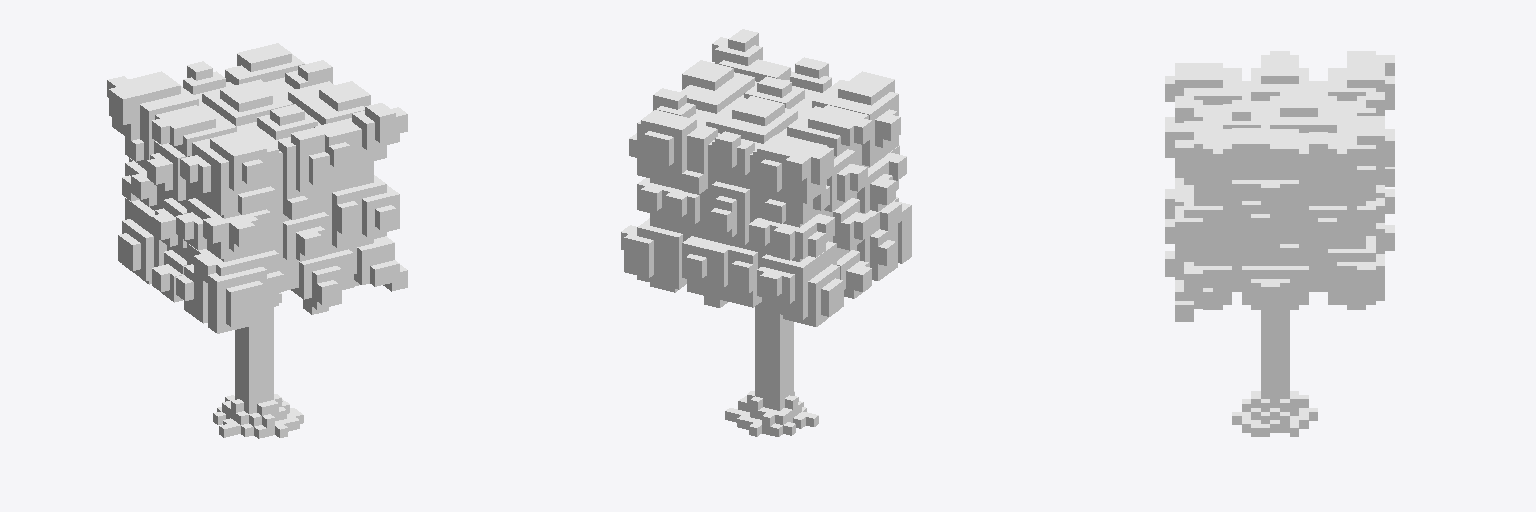
Rendered from arbol1.obj.
3 renders of one model, left to right at view 1: azimuth 30°, elevation 25°; view 2: azimuth 150°, elevation 25°; view 3: azimuth 270°, elevation 25°, orthographic.
Visible parts, largest first — view 1: object 1; view 2: object 1; view 3: object 1.
Part boxes in pixels (left/top/right/bottom): object 1: left=107, top=43, right=407, bottom=438; object 1: left=621, top=29, right=911, bottom=436; object 1: left=1165, top=51, right=1394, bottom=436.
Size of the model in its own units: 2.4 by 3.8 by 2.4.